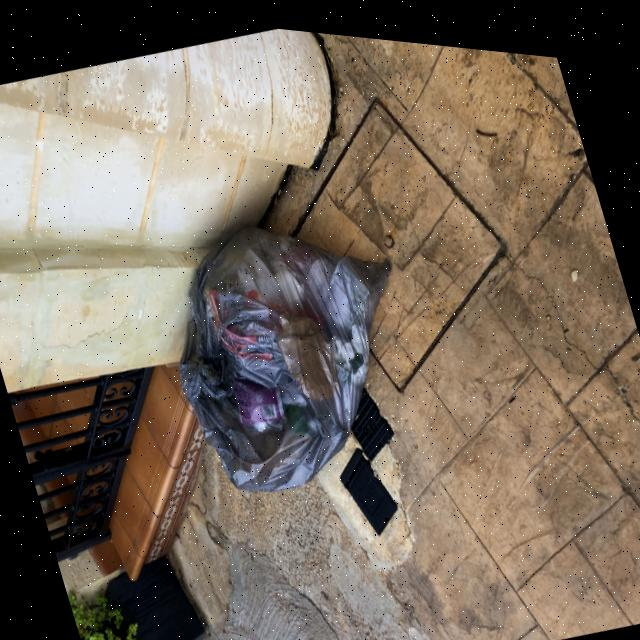Mixed Waste -Black Bag-: (141, 179, 445, 515)
